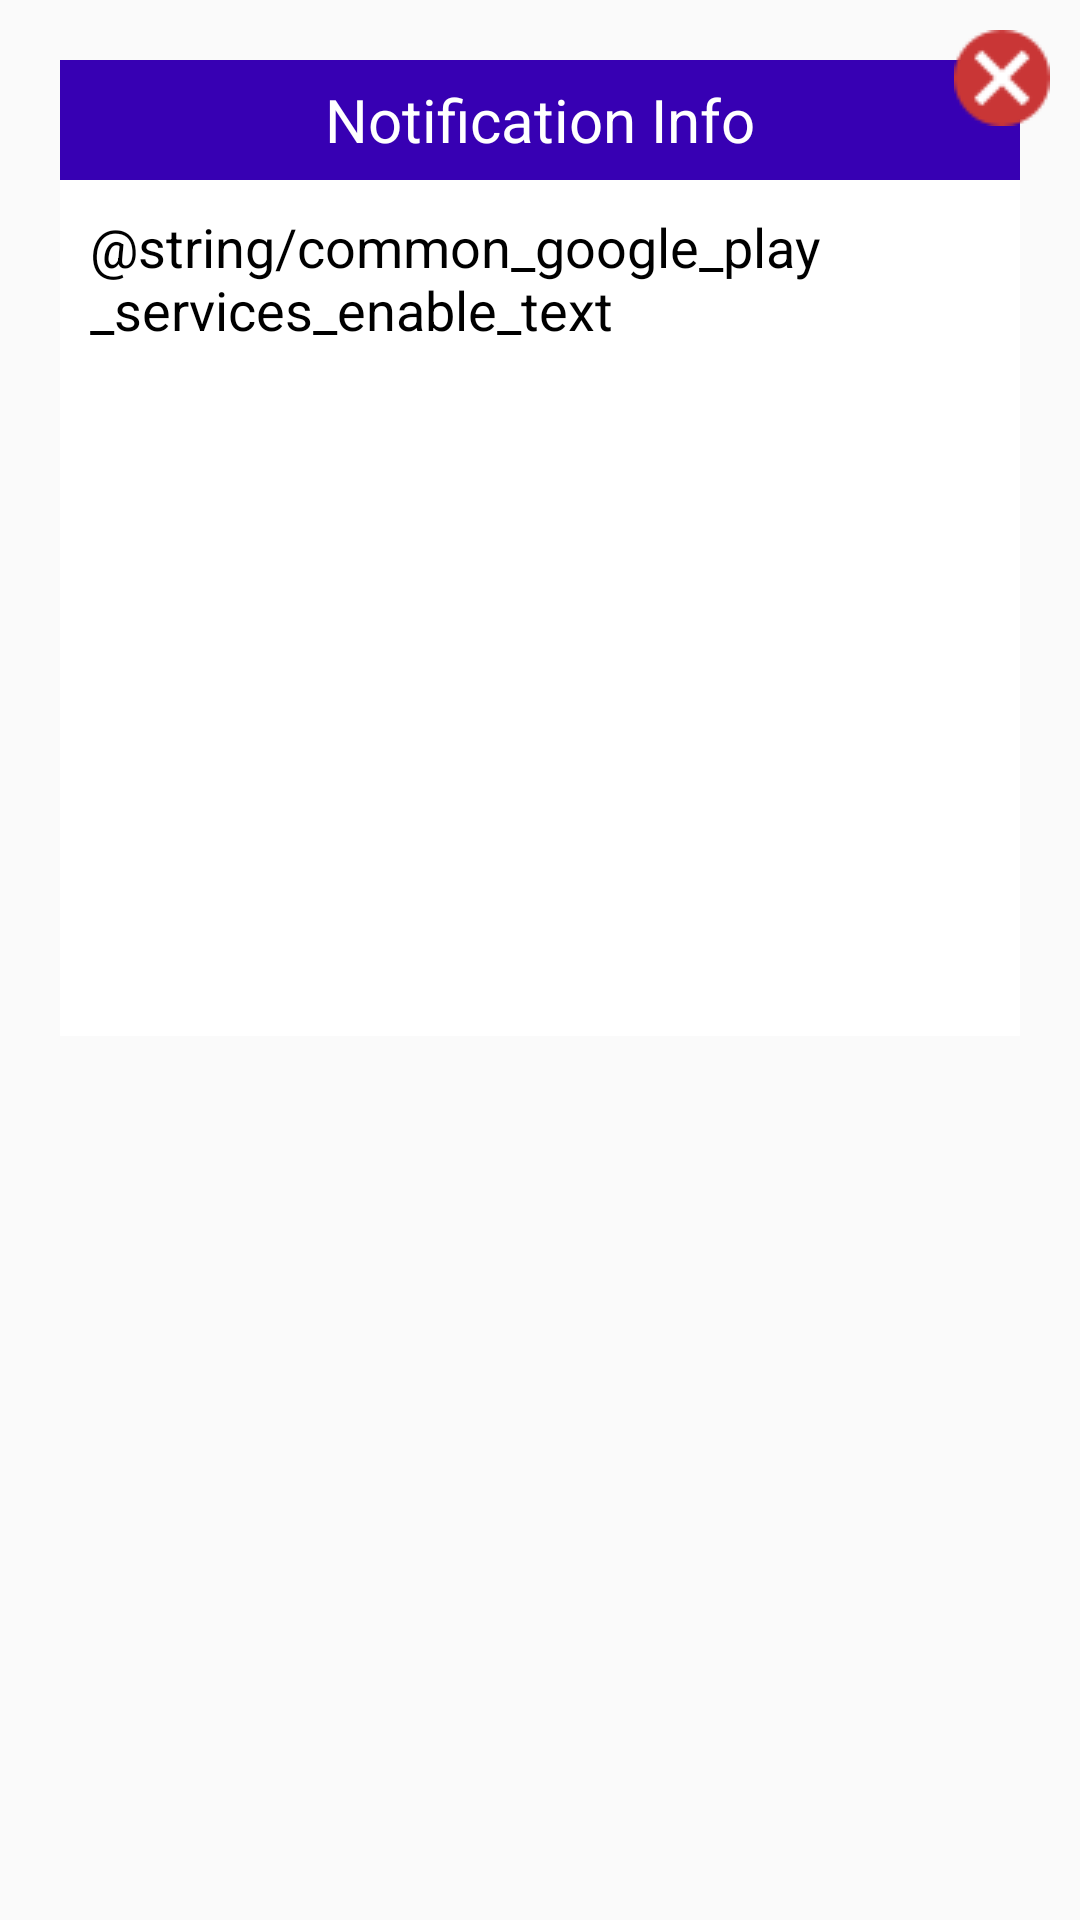

Screen size 1080×1920. Icon name, then its box in pixels as (x1,y1,x2,y2):
close: (954,30,1050,126)
